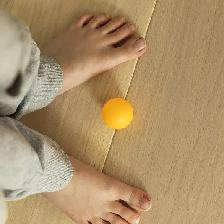YellowBall: (100, 97, 134, 129)
